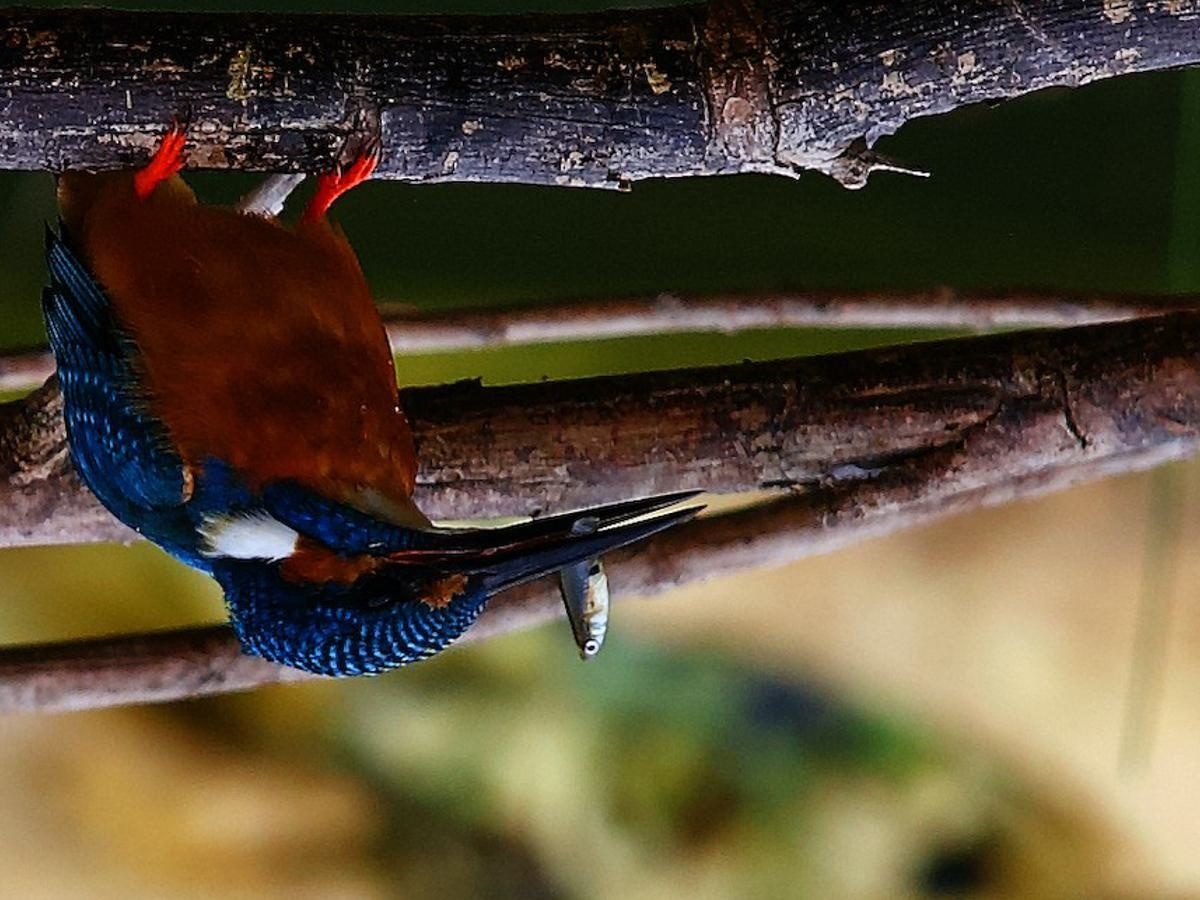kingfisher: (35, 110, 723, 708)
